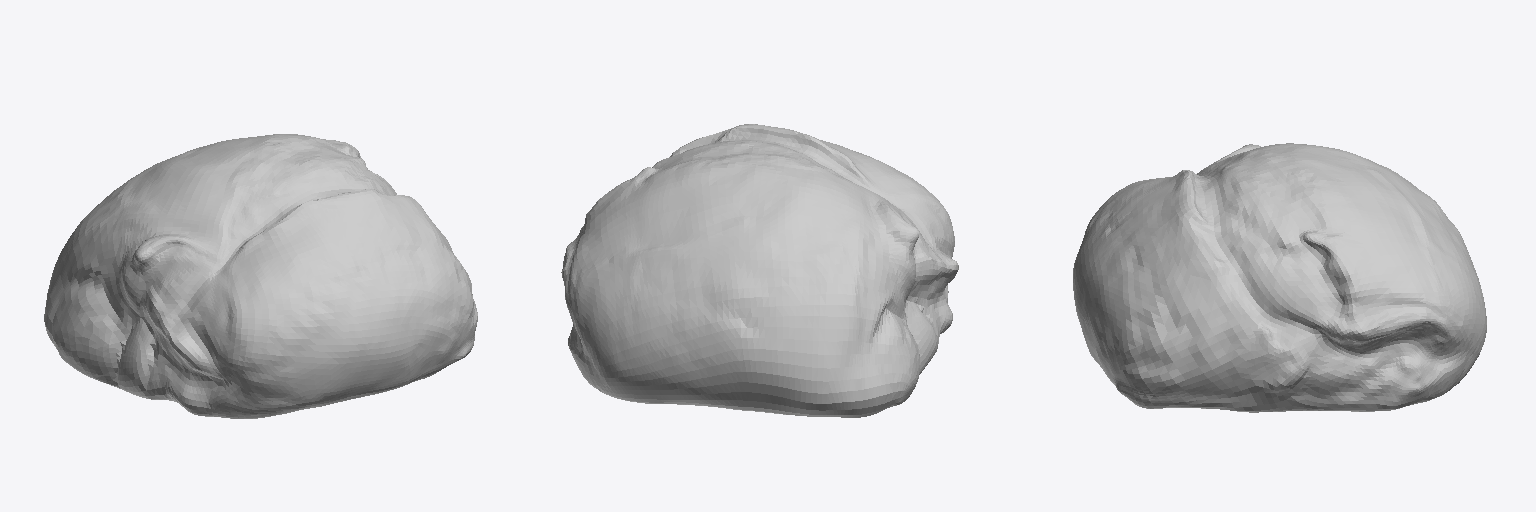
Rendered from Bread D.obj.
The picture shows the model from 3 angles: view 1: azimuth 30°, elevation 25°; view 2: azimuth 150°, elevation 25°; view 3: azimuth 270°, elevation 25°; orthographic projection.
Parts seen in each view (by area): view 1: Bergsteige; view 2: Bergsteige; view 3: Bergsteige.
Boxes of the visible parts, box(x1,y1,x2,y2) form: Bergsteige: box(44, 134, 477, 418); Bergsteige: box(561, 124, 958, 417); Bergsteige: box(1073, 143, 1486, 412).
Size of the model in its own units: 1.49 by 0.8178 by 1.59.